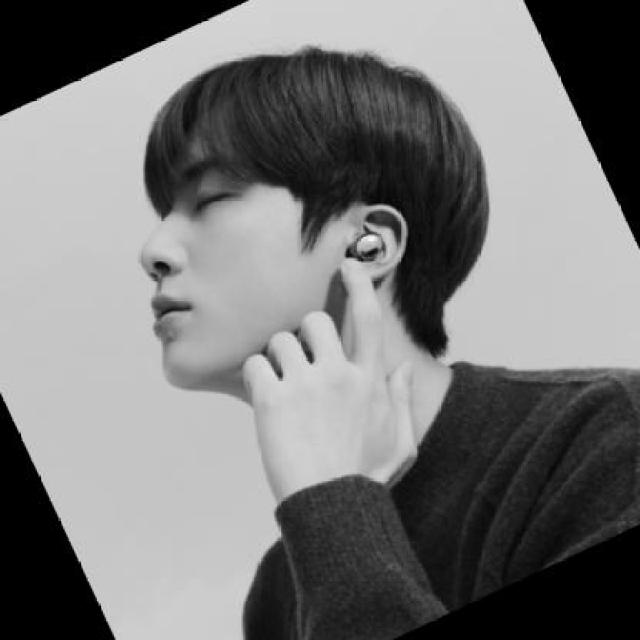earphone: (344, 229, 410, 278)
